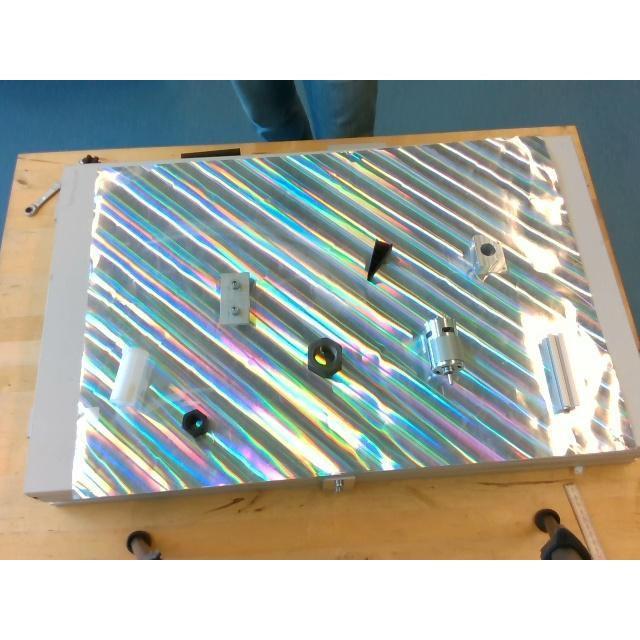F20_20_G: (540, 332, 580, 412)
M20: (181, 408, 207, 436)
M30: (306, 338, 342, 376)
Motor2: (422, 316, 462, 376)
Spacer: (109, 348, 148, 402)
